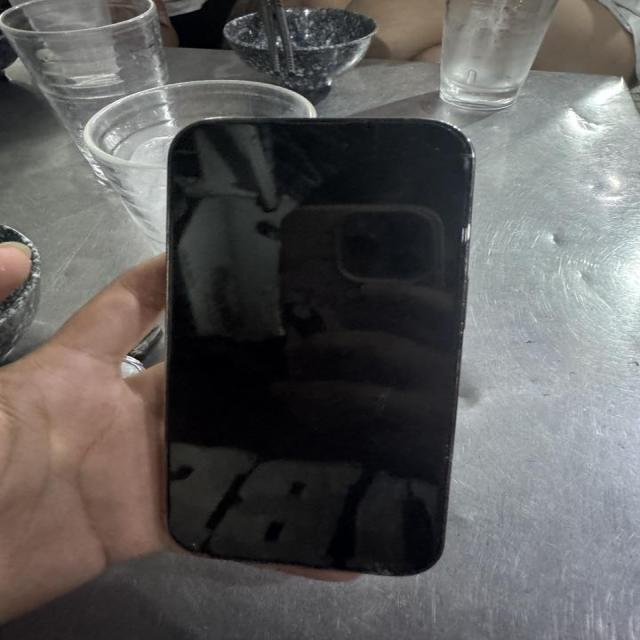gen_11: (159, 110, 485, 582)
